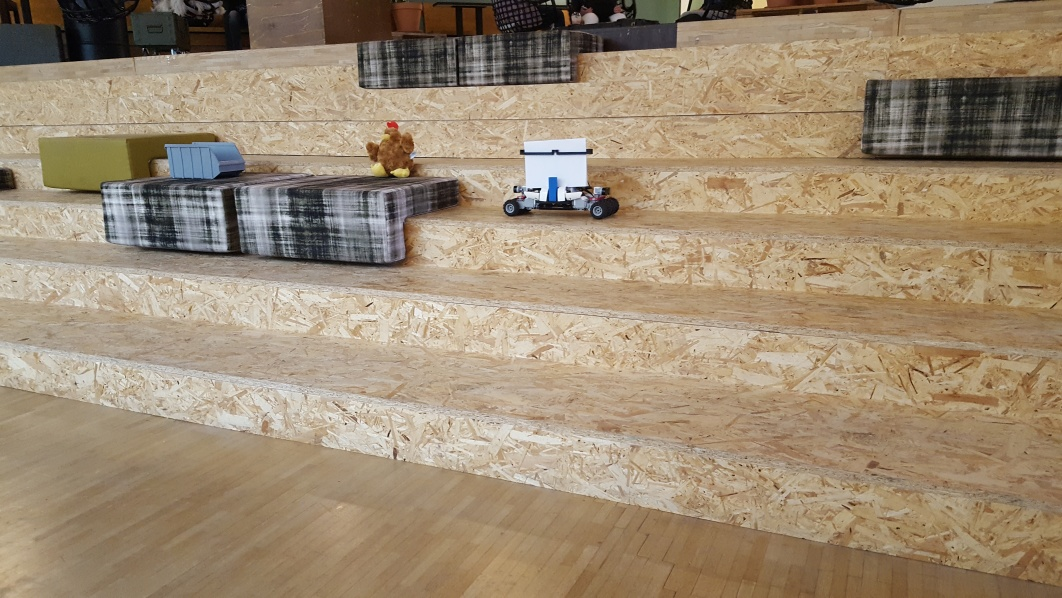car: (503, 136, 620, 222)
chicken: (366, 122, 418, 181)
tray: (162, 139, 245, 179)
